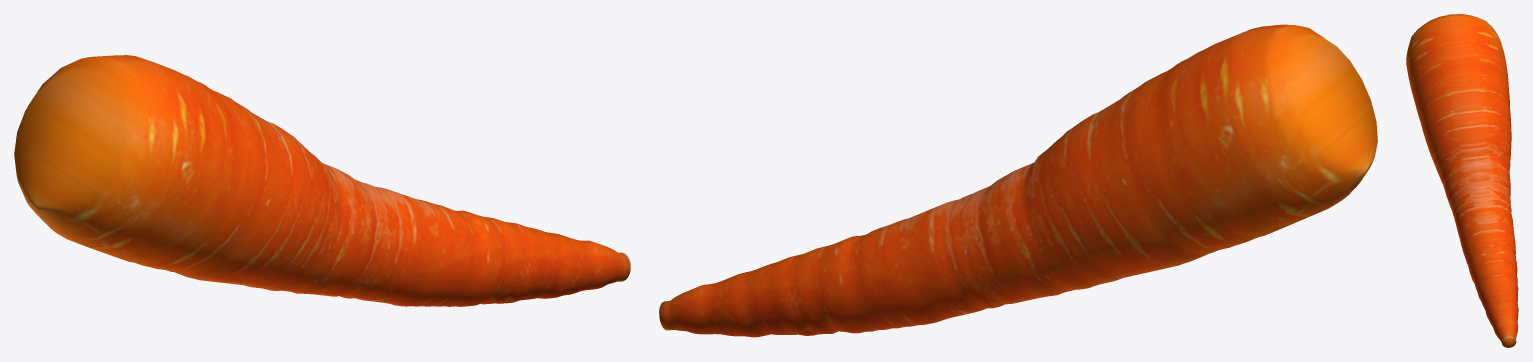
Rendered from carrot.obj.
The picture shows the model from 3 angles, left to right: view 1: azimuth 30°, elevation 25°; view 2: azimuth 150°, elevation 25°; view 3: azimuth 270°, elevation 25°; orthographic projection. The views are drawn at different scales.
Parts seen in each view (by area): view 1: Mesh; view 2: Mesh; view 3: Mesh.
Part boxes in pixels (x1,y1,x2,y2): Mesh: (14,55,630,306); Mesh: (659,24,1377,337); Mesh: (1406,14,1518,347).
Size of the model in its own units: 29.79 by 17.29 by 8.95.
1 material, 1 textured.
